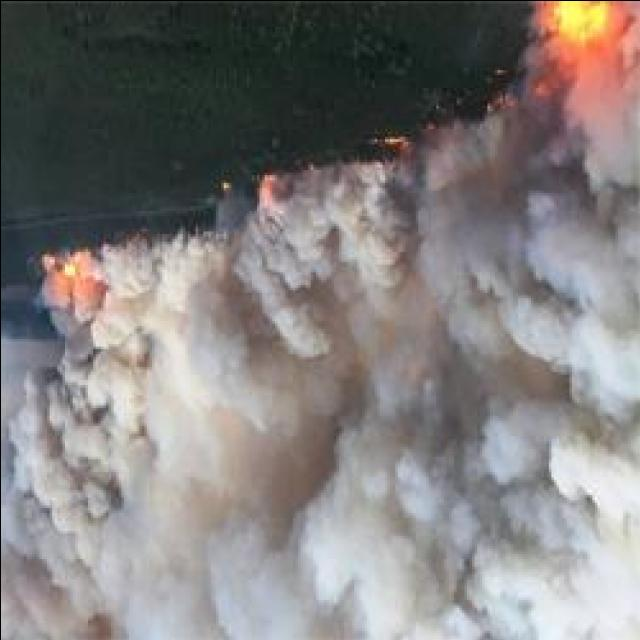fire: (534, 0, 609, 73), (40, 233, 100, 307)
smoke: (294, 418, 638, 638), (432, 154, 622, 414), (240, 168, 420, 352), (23, 366, 178, 554)
